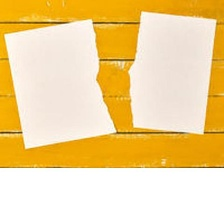book: (3, 12, 123, 152), (126, 4, 219, 139)
